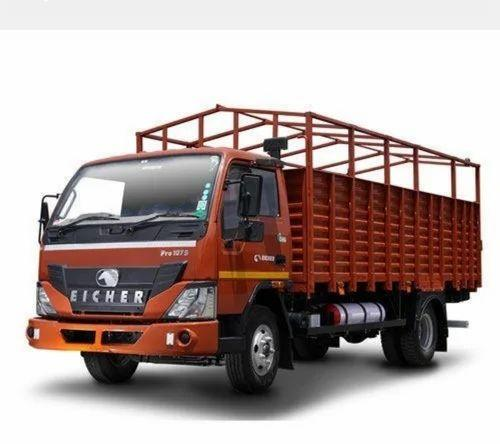truck: (25, 104, 483, 395)
